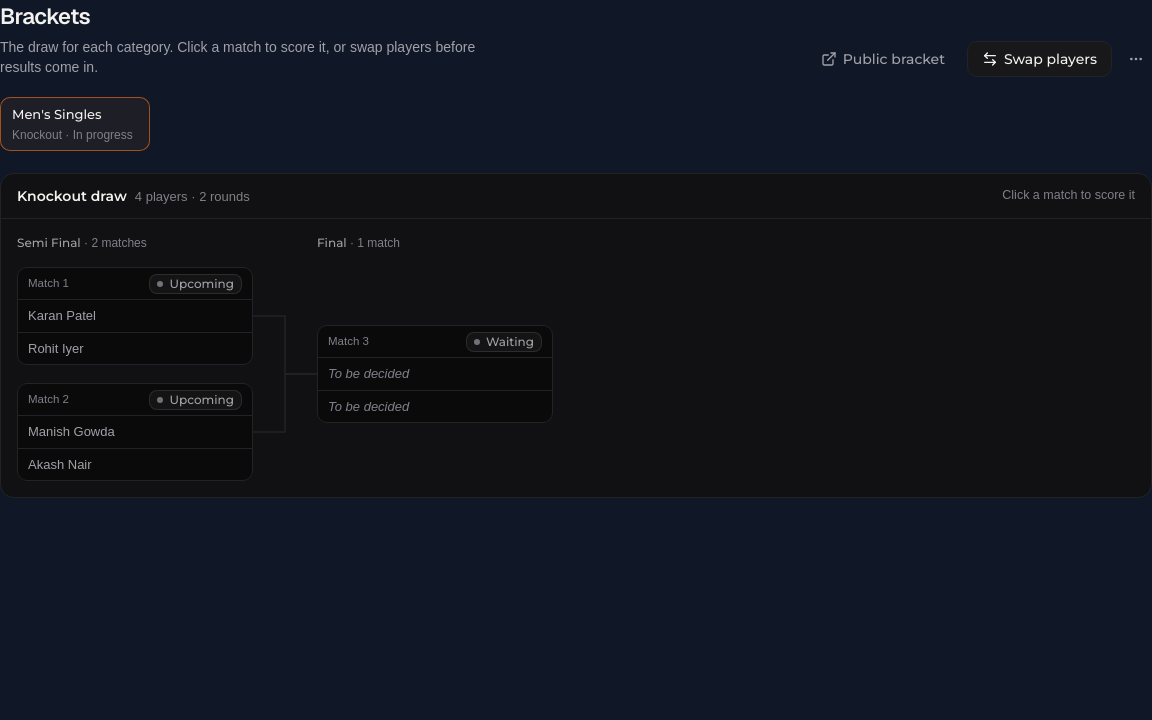
Test: BracketManagementSection › says when a match is still waiting for players
Click the button with aria-label "Match 3: to be decided vs to be decided, Waiting".
click(435, 390)  # box [318,358,552,422]
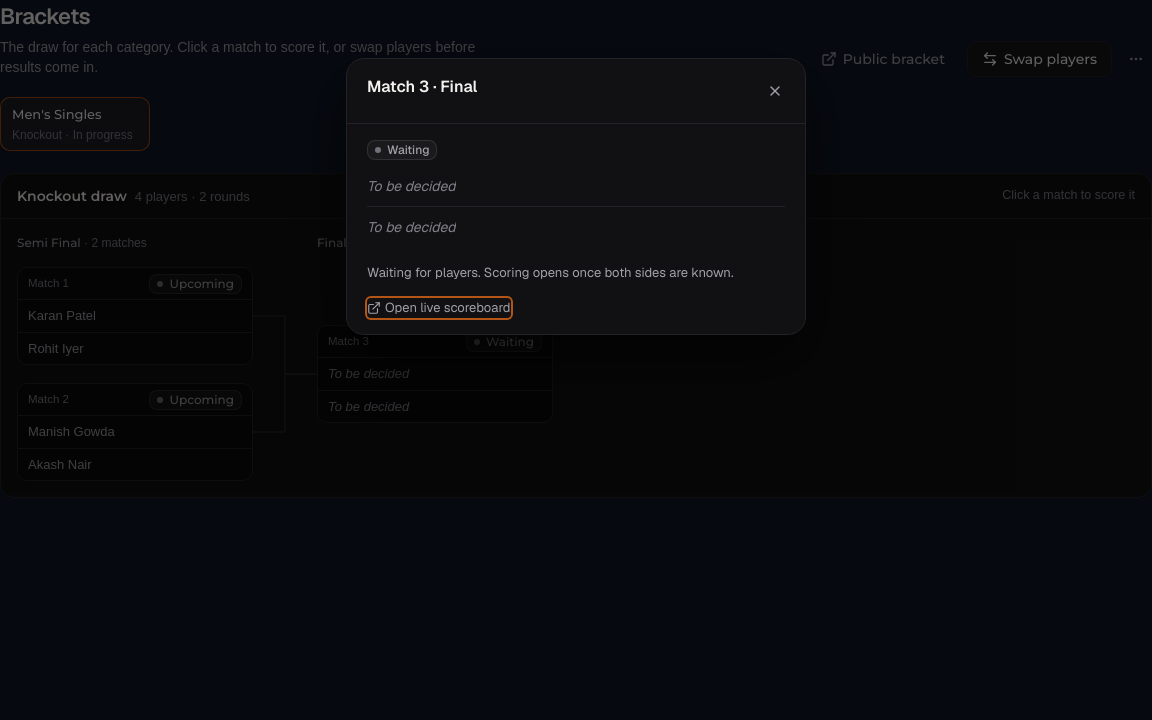
Now the text "Waiting for players" is shown, box [367,264,734,281]
